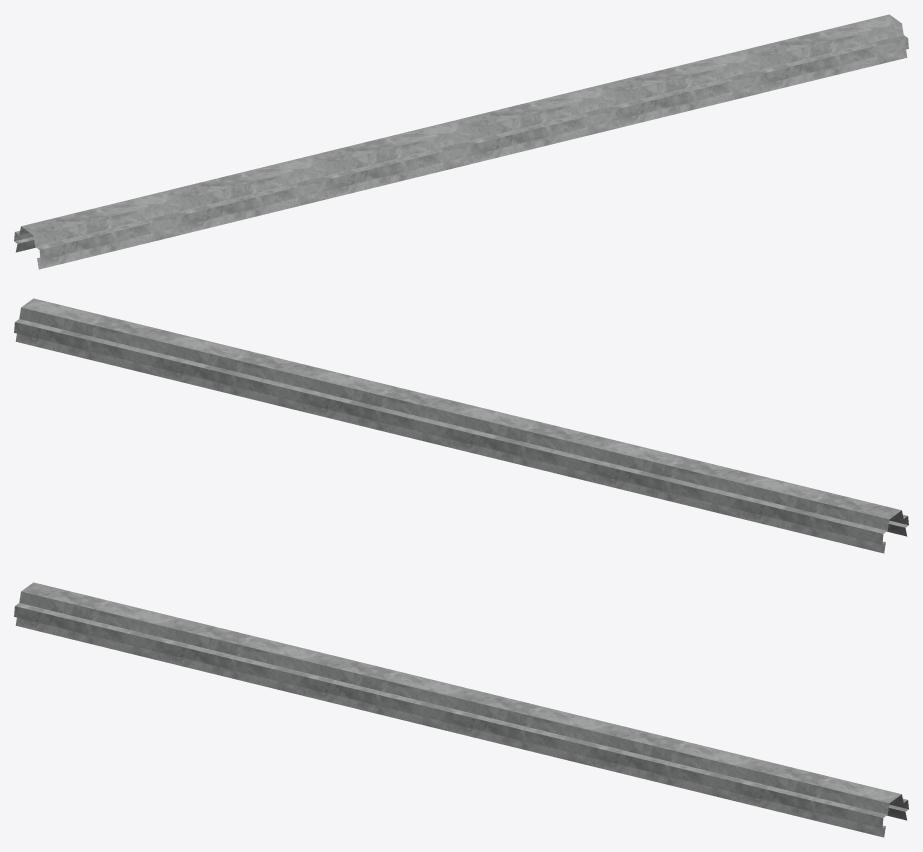
The model's file is CraneRailStraight.fbx.
The picture shows the model from 3 angles, top to bottom: view 1: azimuth 30°, elevation 25°; view 2: azimuth 150°, elevation 25°; view 3: azimuth 330°, elevation 25°; orthographic projection.
Visible parts, largest first — view 1: TerrainRail.002; view 2: TerrainRail.002; view 3: TerrainRail.002.
Boxes of the visible parts, <box> form: TerrainRail.002: <box>14,14,908,269</box>; TerrainRail.002: <box>14,298,908,553</box>; TerrainRail.002: <box>14,582,908,837</box>.
Bounding box in the file's own units: 3000 × 100 × 159.
